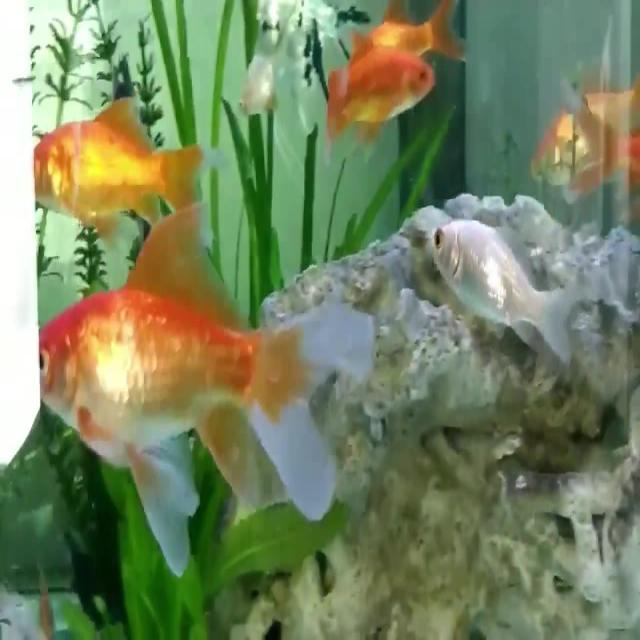GoldFish: (27, 197, 388, 543), (20, 87, 222, 242), (306, 34, 442, 168)
